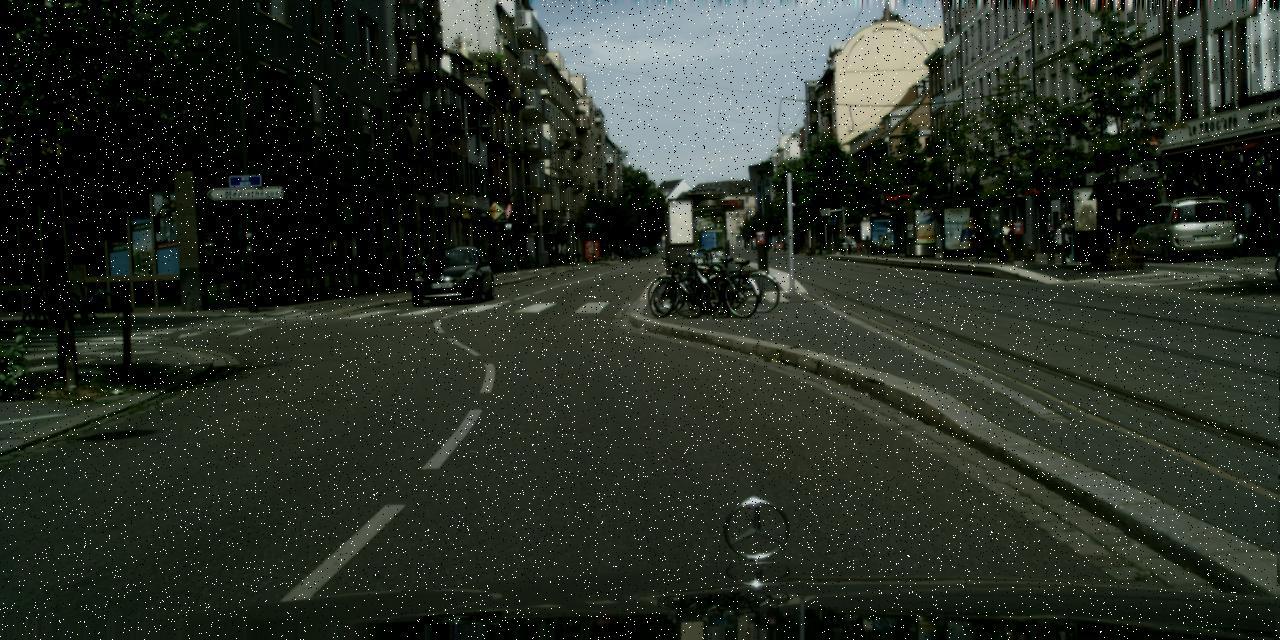ped: (1055, 212, 1075, 262), (999, 220, 1015, 260), (845, 232, 853, 255), (863, 235, 870, 254), (518, 252, 524, 269)
